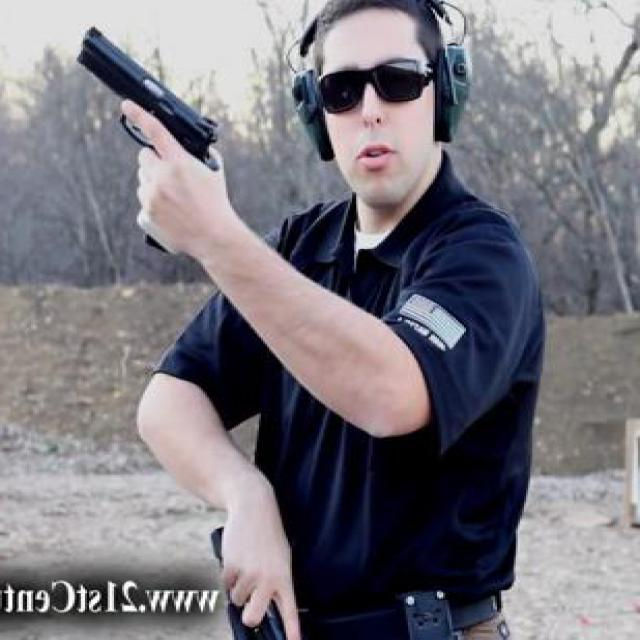Gun: (72, 22, 230, 254)
